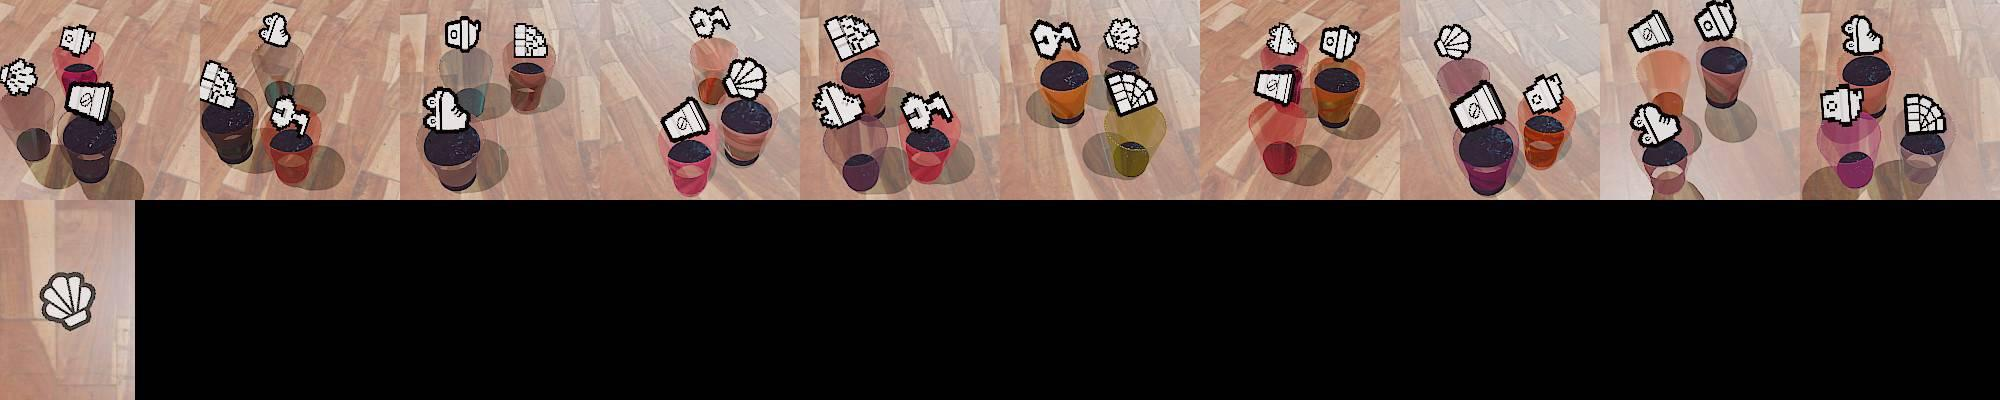icon: (37, 271, 96, 330), (1448, 80, 1508, 134), (823, 14, 879, 64), (1103, 69, 1158, 117), (811, 80, 865, 129), (1630, 99, 1682, 146), (62, 79, 116, 125), (659, 94, 709, 141), (901, 88, 953, 131), (422, 85, 469, 131), (1626, 9, 1675, 54), (1029, 19, 1080, 61), (265, 92, 312, 136), (723, 56, 768, 101), (1819, 84, 1866, 126), (1903, 93, 1946, 136), (1522, 71, 1564, 115), (1253, 69, 1298, 108), (1695, 0, 1737, 42), (1841, 14, 1881, 56), (200, 62, 237, 106), (1103, 17, 1143, 55), (0, 57, 40, 96), (444, 15, 481, 55), (689, 5, 731, 39), (1435, 23, 1472, 61), (513, 22, 548, 59), (1264, 22, 1300, 57), (59, 24, 97, 57), (260, 11, 292, 47), (1325, 29, 1351, 52)
